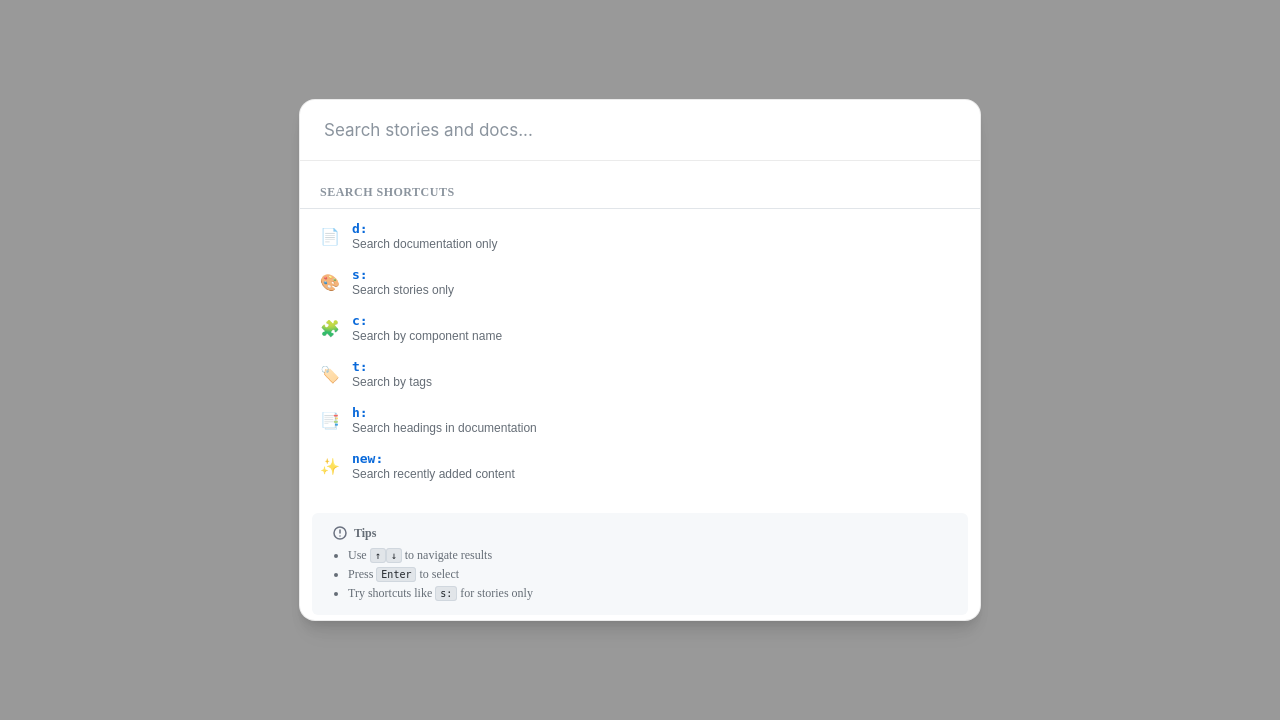
SearchDialog › shows loading state while searching
The width and height of the screenshot is (1280, 720).
Type "test query" into the dropdown with placeholder "Search stories and docs..." at (664,130), box [300,100,1028,161]
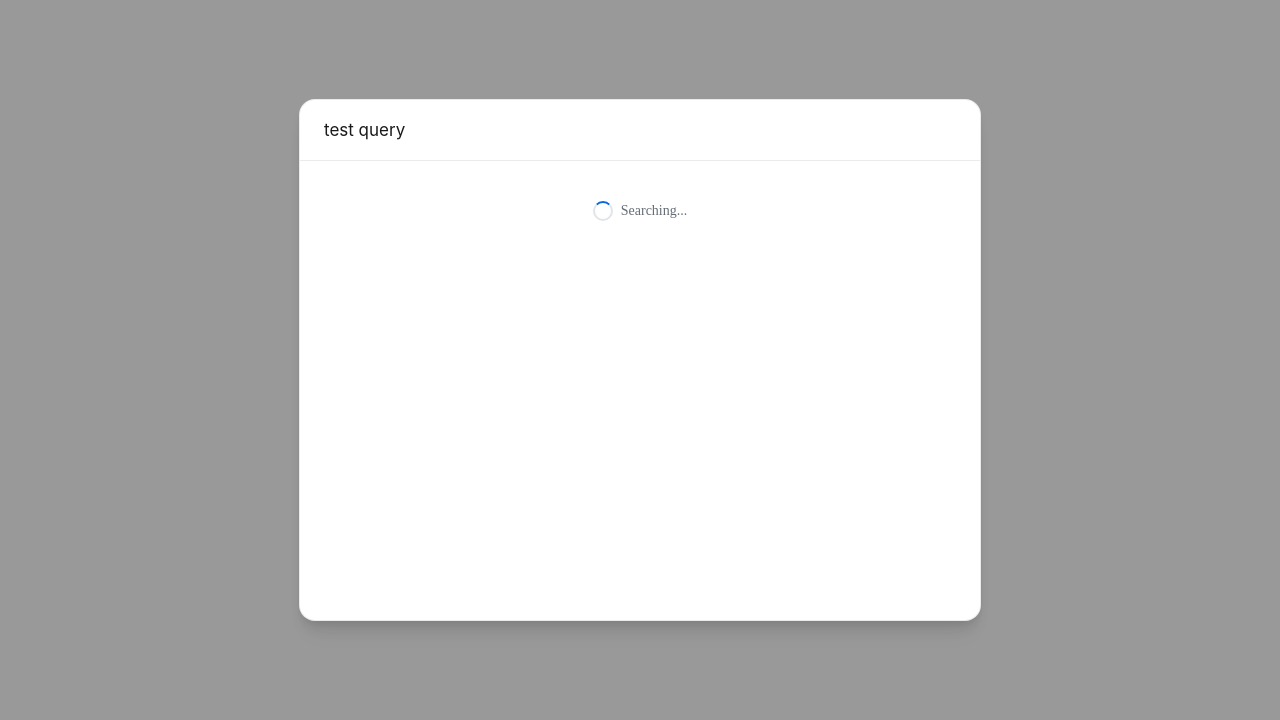
Check: the text "Searching..." is shown, box [593,201,687,221]
